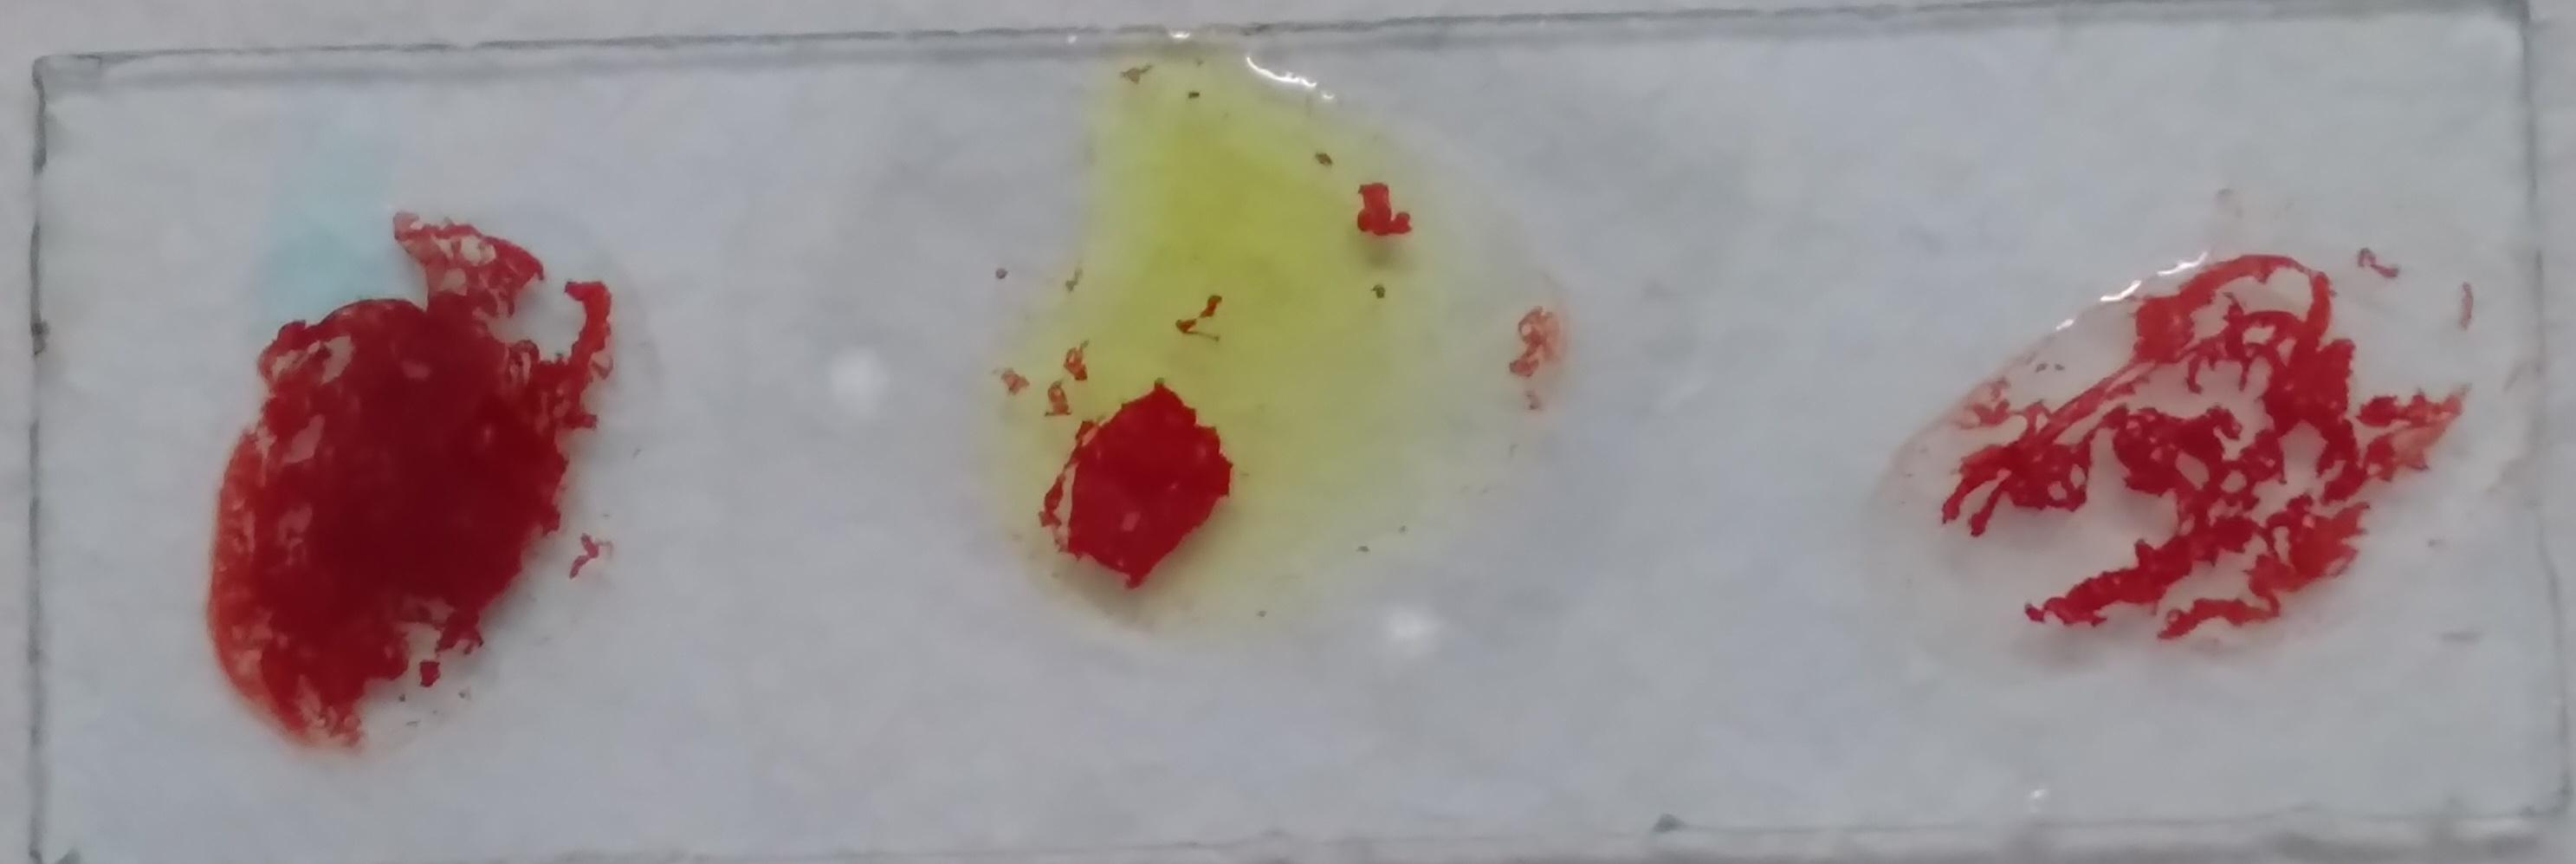A: (1906, 94, 2417, 700)
B: (1089, 228, 1618, 825)
D: (99, 171, 675, 644)
